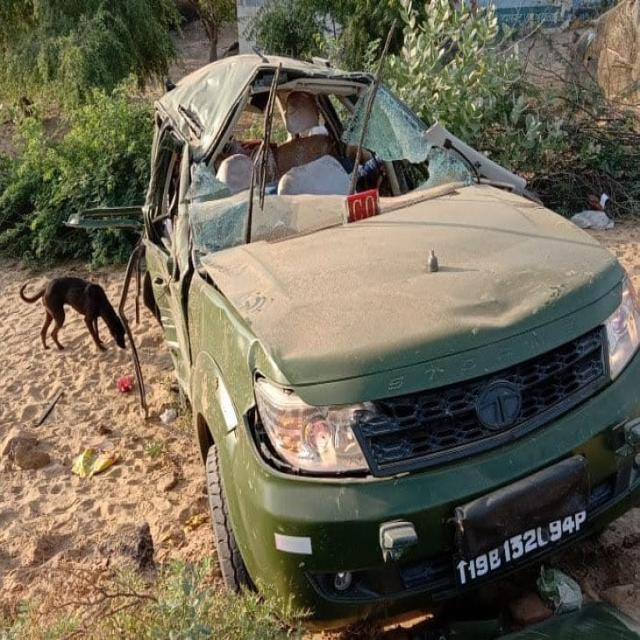military-plate: (450, 503, 588, 589)
